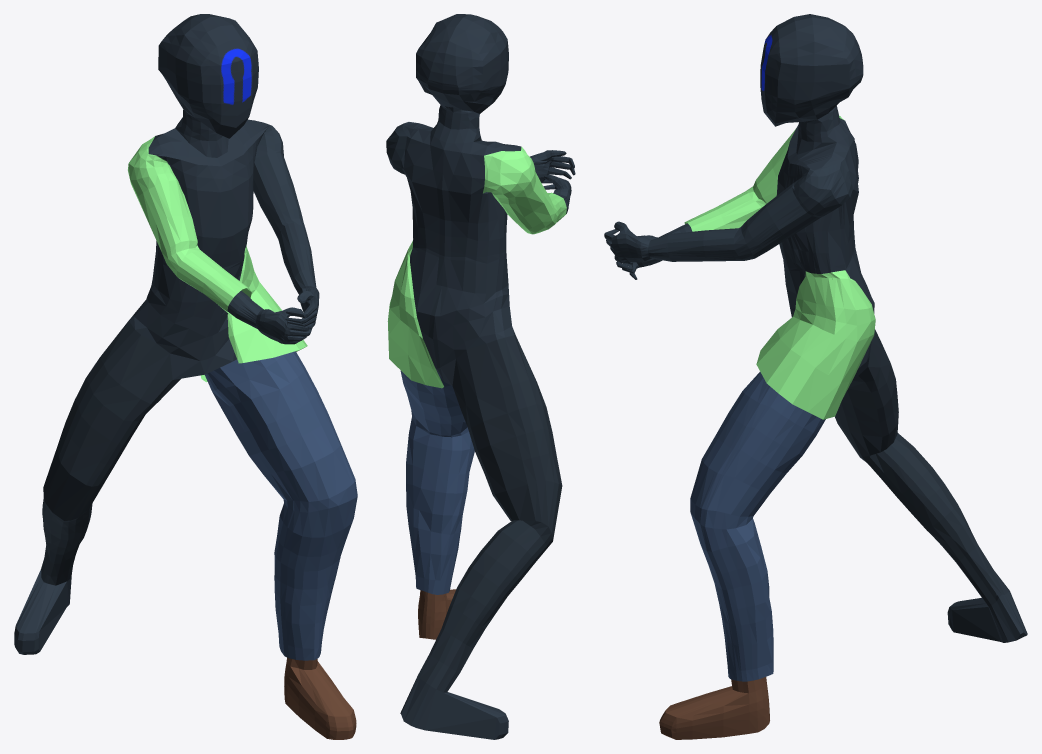
Rendered from Mar_WL_000025.obj.
The picture shows the model from 3 angles, left to right: view 1: azimuth 30°, elevation 25°; view 2: azimuth 150°, elevation 25°; view 3: azimuth 270°, elevation 25°; orthographic projection. The views are drawn at different scales.
Parts seen in each view (by area): view 1: Cube.000_Cube.001; view 2: Cube.000_Cube.001; view 3: Cube.000_Cube.001.
Boxes of the visible parts, <box> form: Cube.000_Cube.001: <box>14,14,357,739</box>; Cube.000_Cube.001: <box>386,14,575,739</box>; Cube.000_Cube.001: <box>604,14,1027,739</box>.
Bounding box in the file's own units: 1.28 × 3.73 × 2.09.
